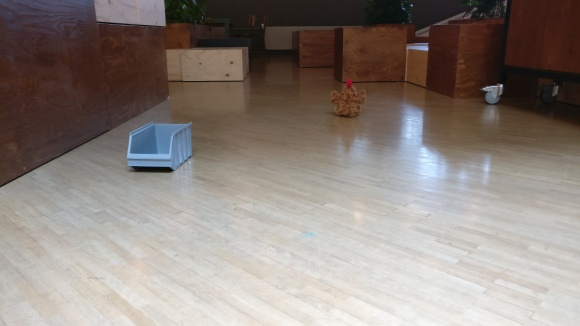chicken: (329, 77, 366, 118)
tray: (125, 119, 194, 173)
